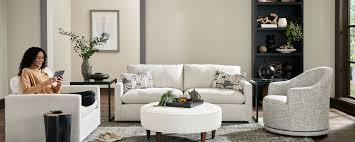chair: (6, 72, 102, 142), (262, 65, 333, 137)
sofa: (113, 62, 259, 125)
table: (138, 102, 221, 142), (67, 75, 116, 118), (44, 112, 69, 140)
